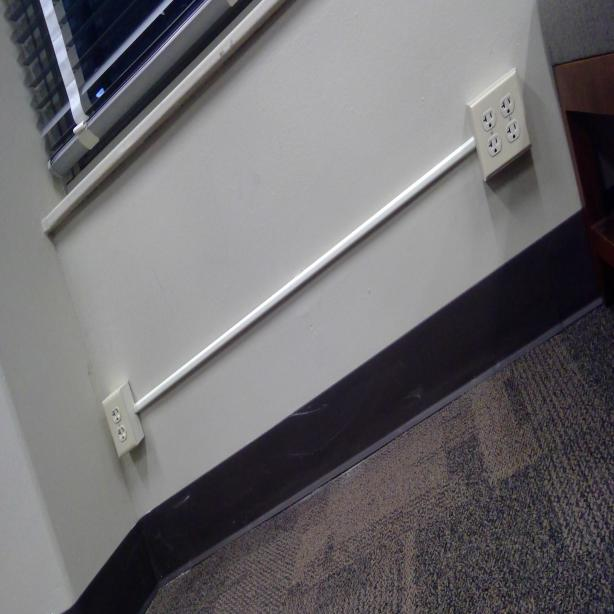typeb: (499, 93, 514, 117), (481, 109, 496, 131), (506, 121, 521, 143), (488, 132, 500, 154), (111, 408, 121, 423), (118, 428, 128, 442)
